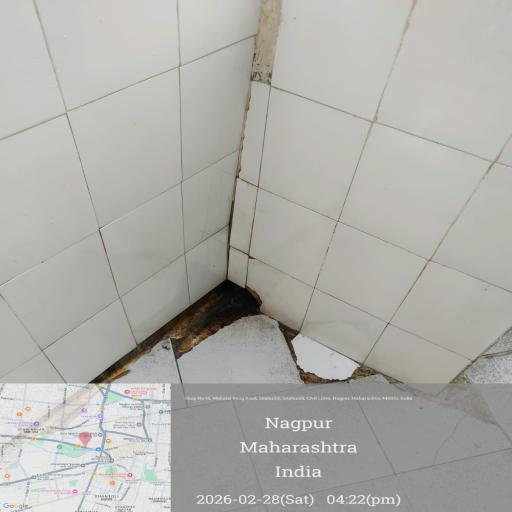clean_floor: (1, 4, 512, 274)
partial_dirty_floor: (83, 267, 405, 385)
